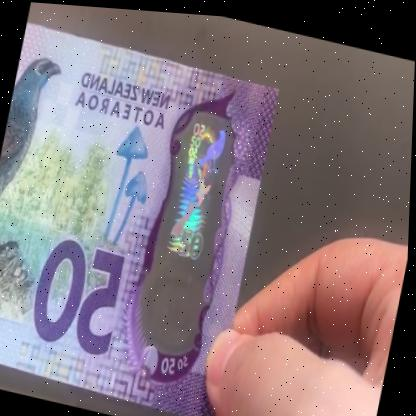50B: (147, 107, 234, 335)
